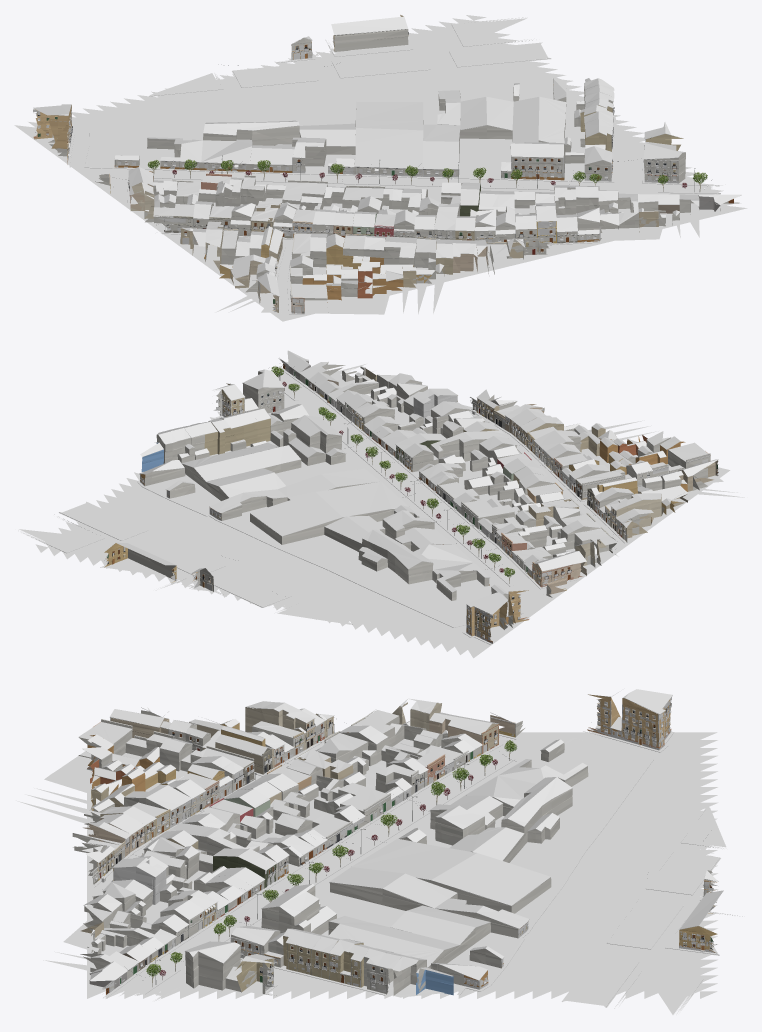
File: zona_0_0.glb
3 views of the same model, one above another, from view 1: azimuth 30°, elevation 25°; view 2: azimuth 150°, elevation 25°; view 3: azimuth 270°, elevation 25° (orthographic). The views are drawn at different scales.
Parts seen in each view (by area): view 1: z_calle_0_0, z_tejados_0_0, z_casas_0_0, z_casas_planas_0_0, z_fachadas_0_0, z_suelo_0_0, z_arboles_0_0; view 2: z_calle_0_0, z_tejados_0_0, z_casas_0_0, z_casas_planas_0_0, z_fachadas_0_0, z_suelo_0_0, z_arboles_0_0; view 3: z_calle_0_0, z_tejados_0_0, z_casas_0_0, z_casas_planas_0_0, z_fachadas_0_0, z_suelo_0_0, z_arboles_0_0.
Boxes of the visible parts, x1,y1,x2,y2 form: z_calle_0_0: [14, 15, 747, 321]; z_tejados_0_0: [33, 15, 741, 296]; z_casas_0_0: [34, 15, 738, 312]; z_casas_planas_0_0: [153, 132, 658, 312]; z_fachadas_0_0: [33, 32, 733, 313]; z_suelo_0_0: [87, 51, 719, 315]; z_arboles_0_0: [148, 155, 707, 191]; z_calle_0_0: [18, 361, 744, 658]; z_tejados_0_0: [112, 350, 718, 621]; z_casas_0_0: [104, 359, 718, 639]; z_casas_planas_0_0: [230, 368, 710, 568]; z_fachadas_0_0: [105, 358, 718, 643]; z_suelo_0_0: [176, 372, 719, 611]; z_arboles_0_0: [271, 365, 514, 583]; z_calle_0_0: [16, 707, 744, 1014]; z_tejados_0_0: [82, 689, 723, 984]; z_casas_0_0: [80, 694, 718, 995]; z_casas_planas_0_0: [72, 710, 464, 984]; z_fachadas_0_0: [91, 697, 717, 994]; z_suelo_0_0: [92, 733, 713, 995]; z_arboles_0_0: [146, 740, 516, 987].
Bounding box in the file's own units: 237 × 15.23 × 237.
